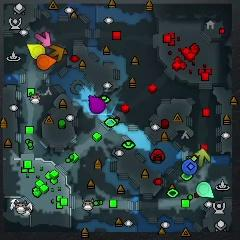p1: (182, 158, 198, 175)
p2: (197, 182, 214, 198)
p3: (89, 96, 106, 114)
p4: (27, 44, 46, 59)
p5: (36, 54, 57, 69)
x1: (35, 32, 51, 47)
x2: (196, 148, 210, 166)
x5: (47, 45, 65, 61)
